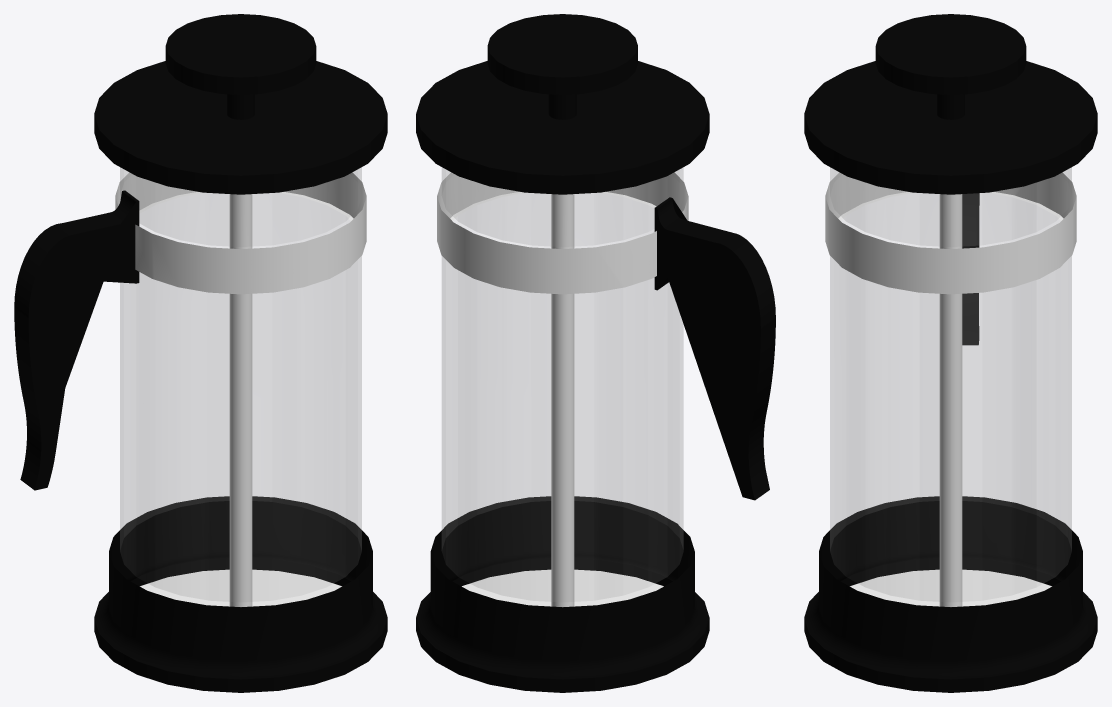
The model's file is Upphetta_Coffee_Maker.fbx.
The picture shows the model from 3 angles, left to right: view 1: azimuth 30°, elevation 25°; view 2: azimuth 150°, elevation 25°; view 3: azimuth 270°, elevation 25°; orthographic projection.
Visible parts, largest first — view 1: Group1, Group2; view 2: Group1, Group2; view 3: Group1, Group2.
Part boxes in pixels (left/top/right/bottom): Group1: left=94, top=14, right=387, bottom=692; Group2: left=14, top=190, right=139, bottom=490; Group1: left=416, top=14, right=709, bottom=692; Group2: left=654, top=197, right=775, bottom=500; Group1: left=804, top=14, right=1097, bottom=692; Group2: left=962, top=193, right=979, bottom=345.
Size of the model in its own units: 134 by 220 by 100.
